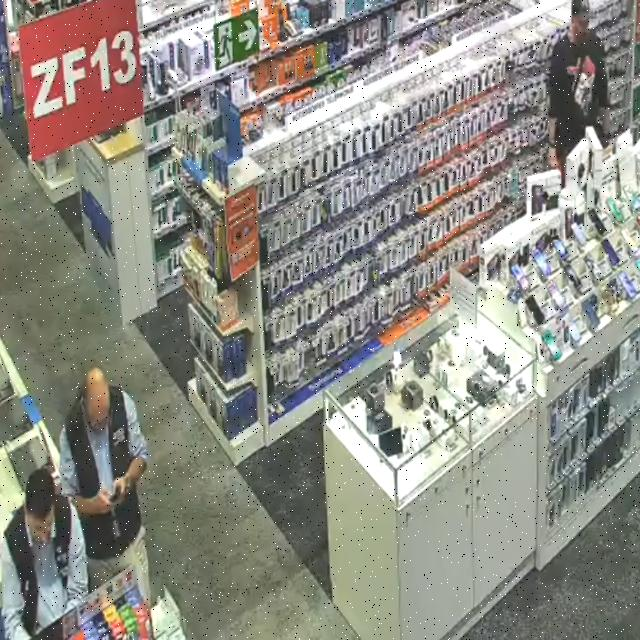hands: (92, 490, 112, 514), (113, 478, 128, 505), (548, 147, 558, 168)
person: (61, 369, 150, 602), (0, 469, 88, 639), (549, 0, 609, 176)
